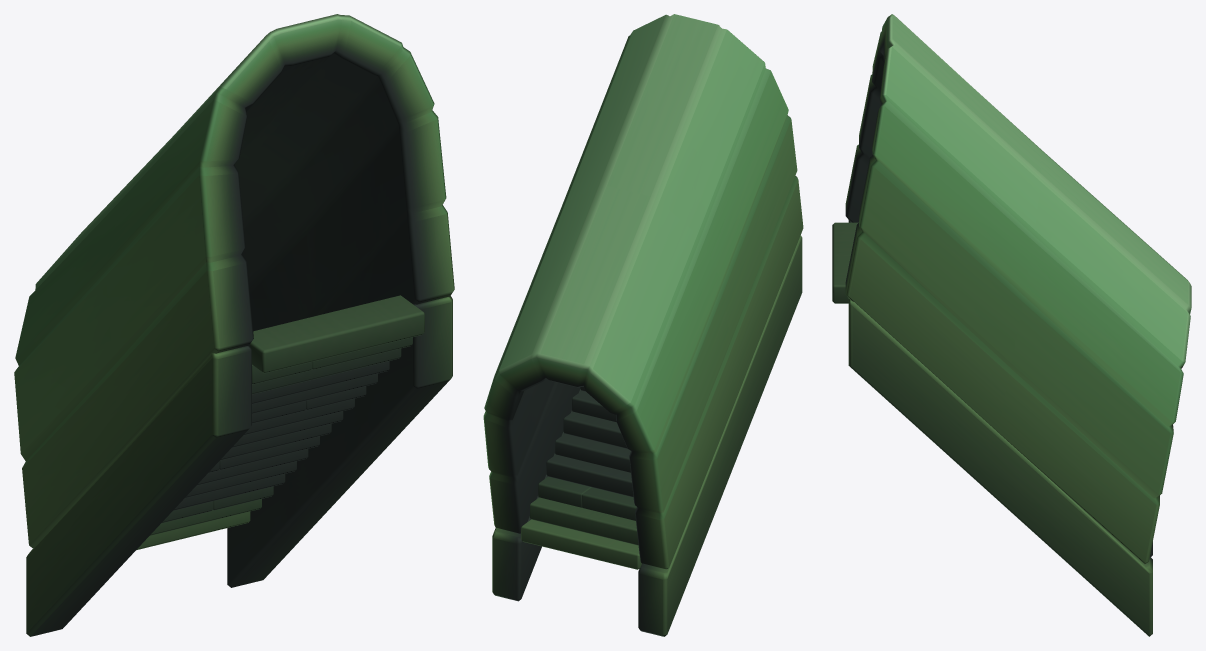
The model's file is doorway_down_wall_archway.fbx.
The picture shows the model from 3 angles, left to right: view 1: azimuth 30°, elevation 25°; view 2: azimuth 150°, elevation 25°; view 3: azimuth 270°, elevation 25°; orthographic projection. The views are drawn at different scales.
Visible parts, largest first — view 1: doorway_down_wall_archway; view 2: doorway_down_wall_archway; view 3: doorway_down_wall_archway.
Part boxes in pixels (x1=…): doorway_down_wall_archway: x1=14, y1=14, x2=454, y2=636; doorway_down_wall_archway: x1=483, y1=14, x2=803, y2=636; doorway_down_wall_archway: x1=832, y1=14, x2=1191, y2=636.
Bounding box in the file's own units: 300 × 838 × 483.
